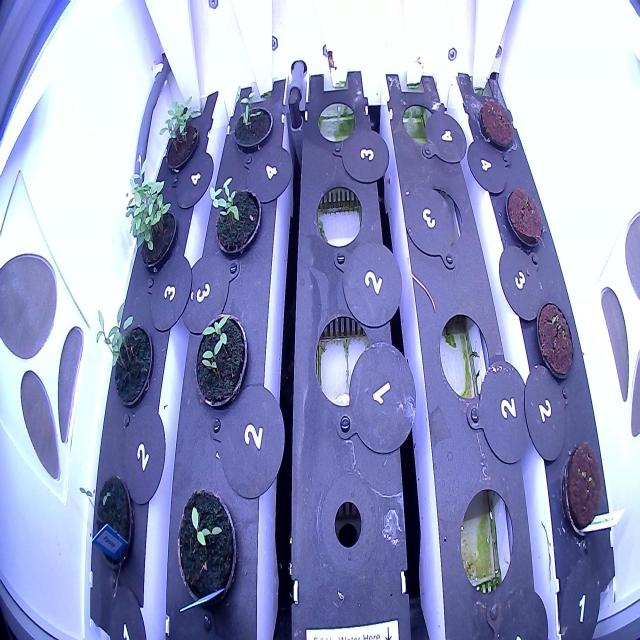empty_pod: (456, 480, 518, 597), (312, 304, 374, 418), (437, 309, 493, 414), (412, 184, 466, 260), (311, 180, 364, 251), (399, 98, 446, 155), (316, 96, 359, 148)
germination: (170, 479, 238, 612), (91, 300, 155, 414), (76, 461, 137, 575), (190, 307, 252, 412), (206, 170, 264, 259), (155, 89, 201, 174), (534, 299, 578, 386), (227, 89, 275, 154)
pod: (556, 434, 606, 539), (502, 180, 546, 254), (477, 92, 518, 154)
